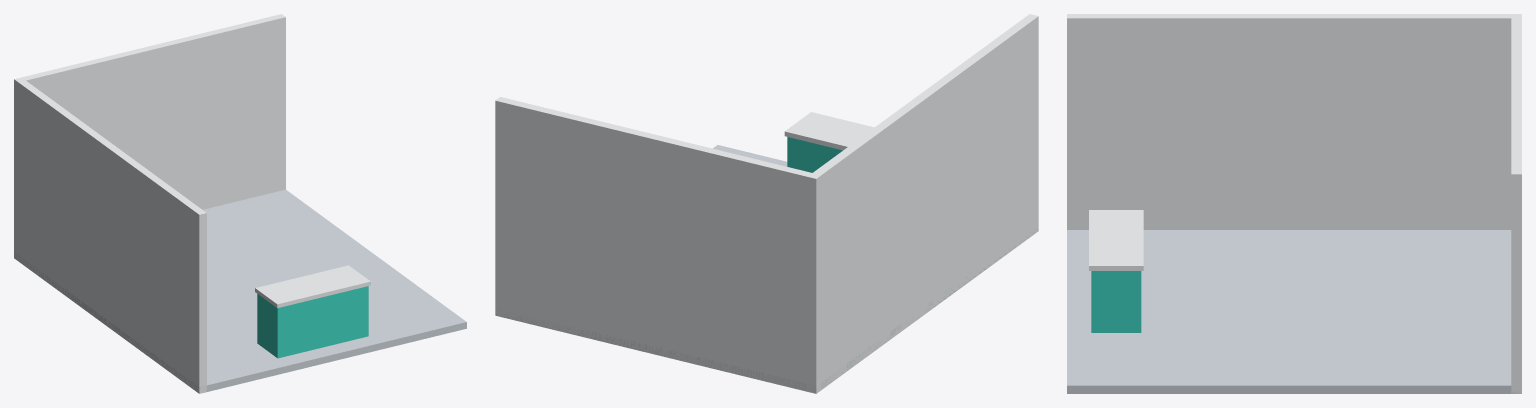
3 views of the same model, side by side, from view 1: azimuth 30°, elevation 25°; view 2: azimuth 150°, elevation 25°; view 3: azimuth 270°, elevation 25° (orthographic). The views are drawn at different scales.
Visible parts, largest first — view 1: Exhibition Booth Concept; view 2: Exhibition Booth Concept; view 3: Exhibition Booth Concept.
Part boxes in pixels (x1,y1,x2,y2): Exhibition Booth Concept: (14, 14, 466, 393); Exhibition Booth Concept: (495, 14, 1038, 393); Exhibition Booth Concept: (1067, 14, 1521, 393).
Size of the model in its own units: 5 by 3.2 by 6.
